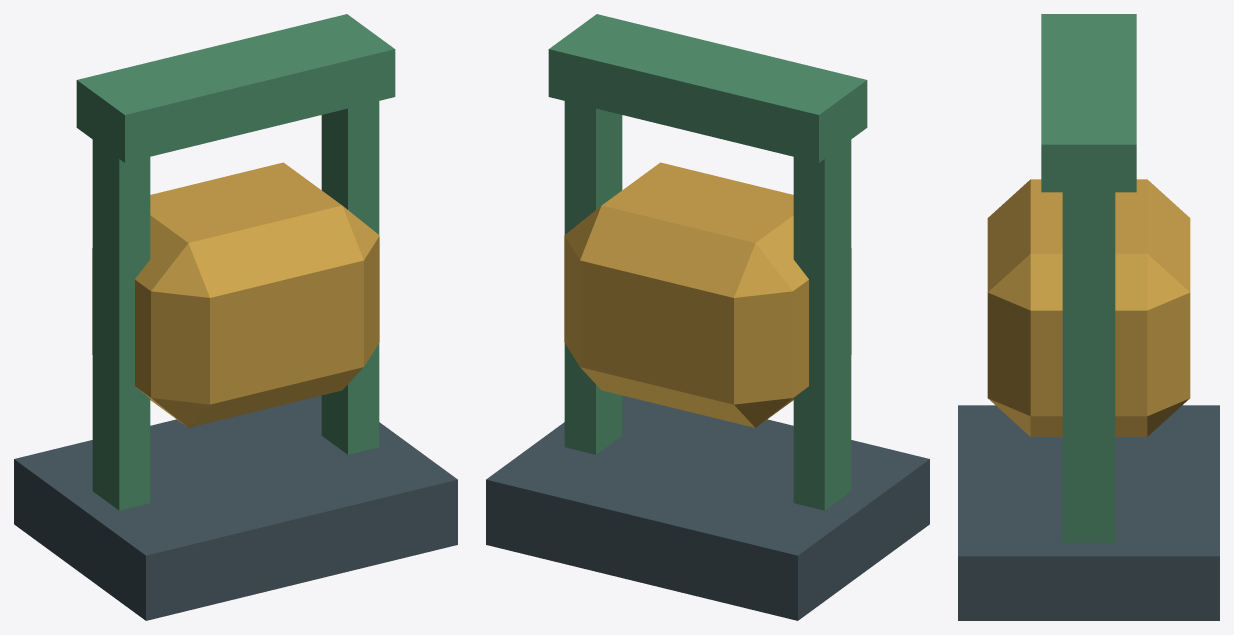
Rendered from rock_hopper.glb.
3 views of the same model, side by side, from view 1: azimuth 30°, elevation 25°; view 2: azimuth 150°, elevation 25°; view 3: azimuth 270°, elevation 25° (orthographic).
Parts seen in each view (by area): view 1: rock_hopper; view 2: rock_hopper; view 3: rock_hopper.
Part boxes in pixels (left/top/right/bottom): rock_hopper: left=14, top=14, right=457, bottom=620; rock_hopper: left=486, top=14, right=929, bottom=620; rock_hopper: left=958, top=14, right=1219, bottom=620.
Size of the model in its own units: 1.5 by 2.16 by 1.1.
